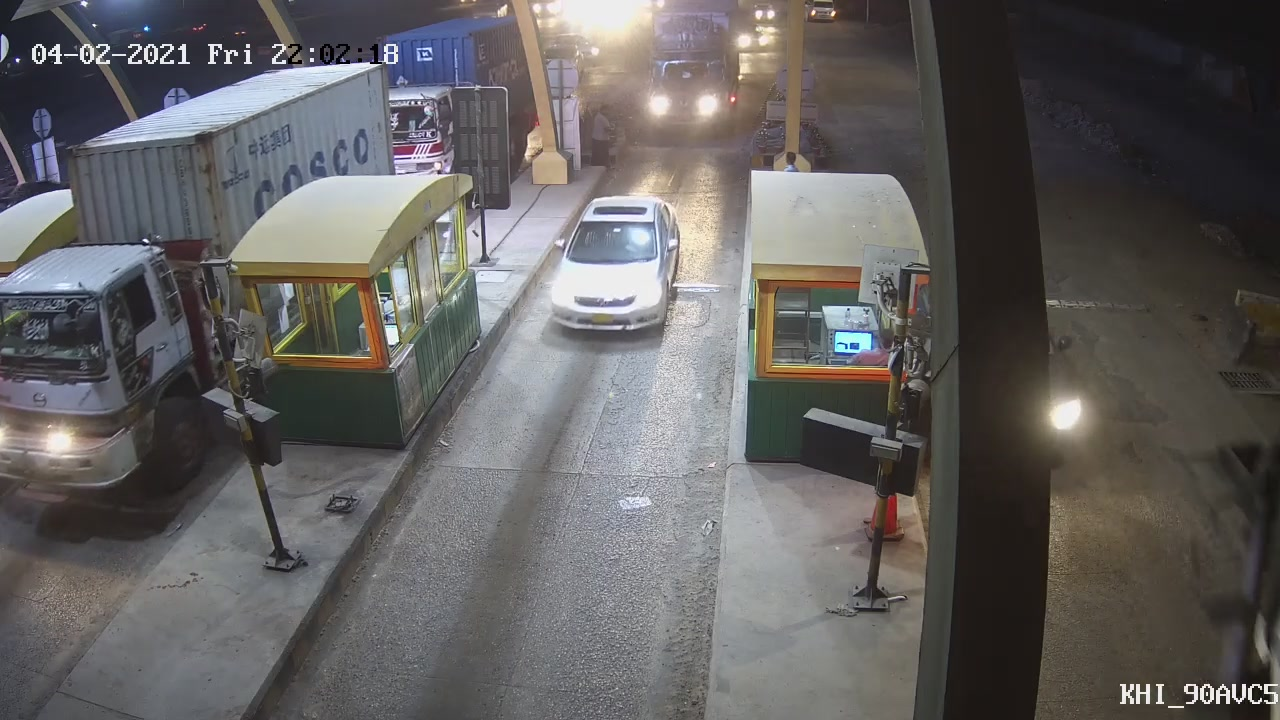F1: (540, 189, 680, 347)
